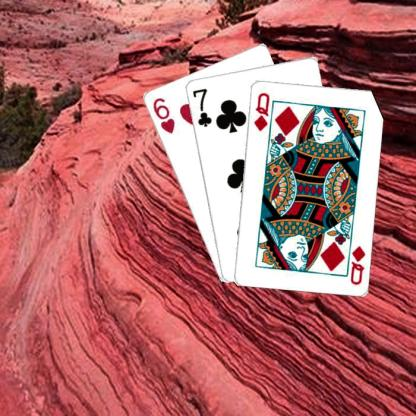6H: (150, 94, 176, 135)
7C: (190, 86, 212, 127)
QD: (347, 242, 366, 286), (251, 90, 270, 132)
